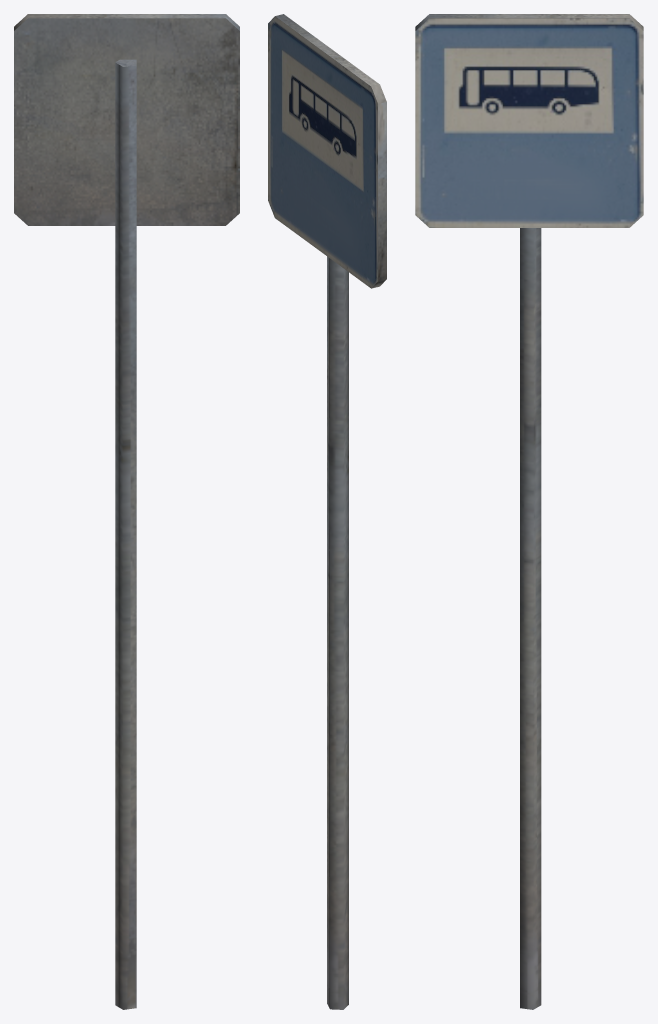
File: bus_stop_sign_01.glb
3 renders of one model, left to right at view 1: azimuth 90°, elevation 25°; view 2: azimuth 210°, elevation 25°; view 3: azimuth 270°, elevation 25°, orthographic. The views are drawn at different scales.
Parts seen in each view (by area): view 1: Bus_stop_sign_01; view 2: Bus_stop_sign_01; view 3: Bus_stop_sign_01.
Part boxes in pixels (left/top/right/bottom): Bus_stop_sign_01: left=14, top=14, right=239, bottom=1009; Bus_stop_sign_01: left=268, top=14, right=386, bottom=1009; Bus_stop_sign_01: left=415, top=14, right=643, bottom=1009.
Size of the model in its own units: 0.0807 by 3.08 by 0.6401.
1 material, 1 textured.
